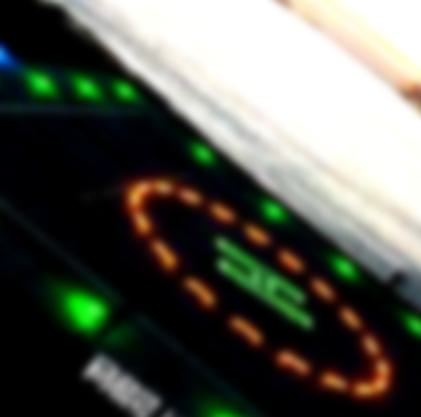Apron: (108, 164, 401, 401)
